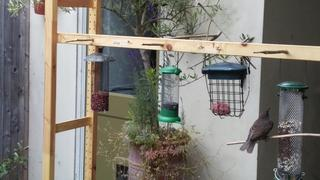starling: (239, 107, 274, 154)
